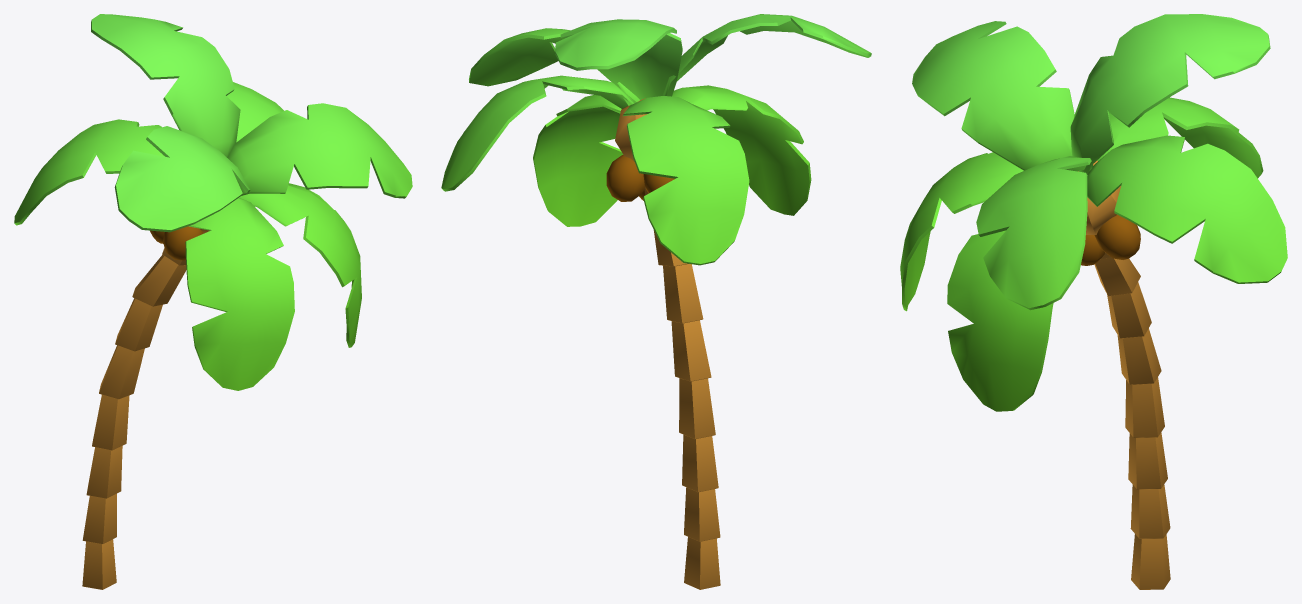
Rendered from cay.fbx.
The picture shows the model from 3 angles, left to right: view 1: azimuth 30°, elevation 25°; view 2: azimuth 150°, elevation 25°; view 3: azimuth 270°, elevation 25°; orthographic projection. The views are drawn at different scales.
Parts seen in each view (by area): view 1: Tree; view 2: Tree; view 3: Tree.
Part boxes in pixels (bbox=[...]): Tree: bbox=[14, 14, 412, 589]; Tree: bbox=[441, 14, 871, 589]; Tree: bbox=[900, 14, 1287, 589].
Size of the model in its own units: 394 by 593 by 354.
